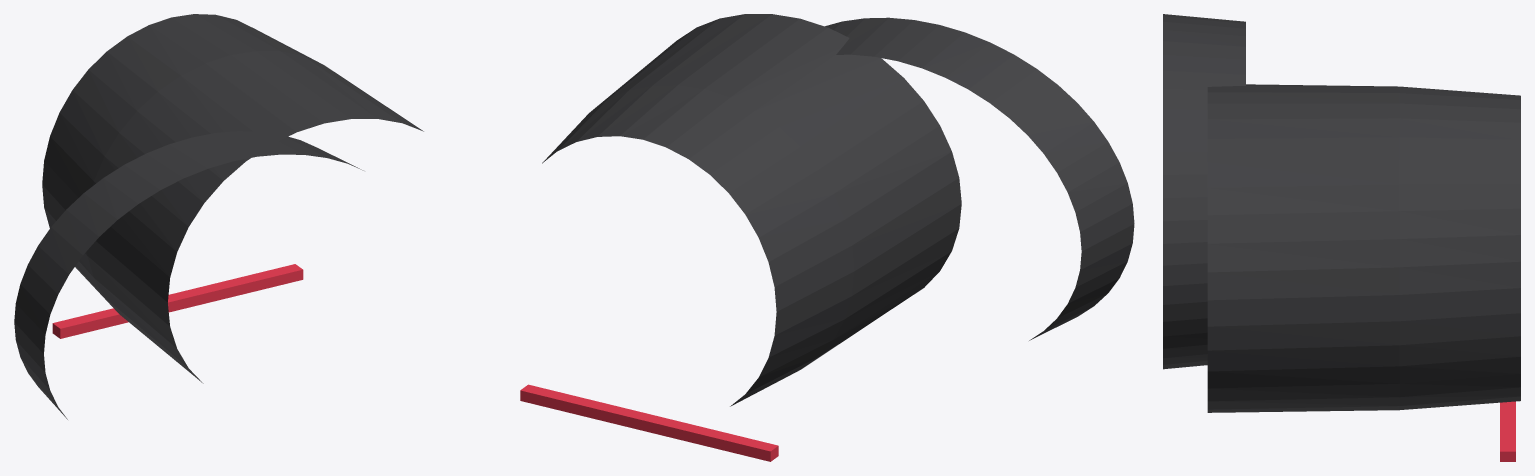
The model's file is bermuda_streetwear.glb.
3 renders of one model, left to right at view 1: azimuth 30°, elevation 25°; view 2: azimuth 150°, elevation 25°; view 3: azimuth 270°, elevation 25°, orthographic. The views are drawn at different scales.
Parts seen in each view (by area): view 1: BermudaLeg, Waistband, Hem_Detail; view 2: BermudaLeg, Waistband, Hem_Detail; view 3: BermudaLeg, Waistband, Hem_Detail.
Boxes of the visible parts, x1,y1,x2,y2 form: BermudaLeg: (42, 14, 423, 383); Waistband: (14, 131, 363, 419); Hem_Detail: (52, 264, 303, 338); BermudaLeg: (542, 14, 961, 406); Waistband: (825, 17, 1134, 340); Hem_Detail: (520, 384, 778, 461); BermudaLeg: (1207, 84, 1520, 412); Waistband: (1163, 14, 1245, 369); Hem_Detail: (1500, 401, 1515, 461).
Bounding box in the file's own units: 0.85 × 0.524 × 0.56.
